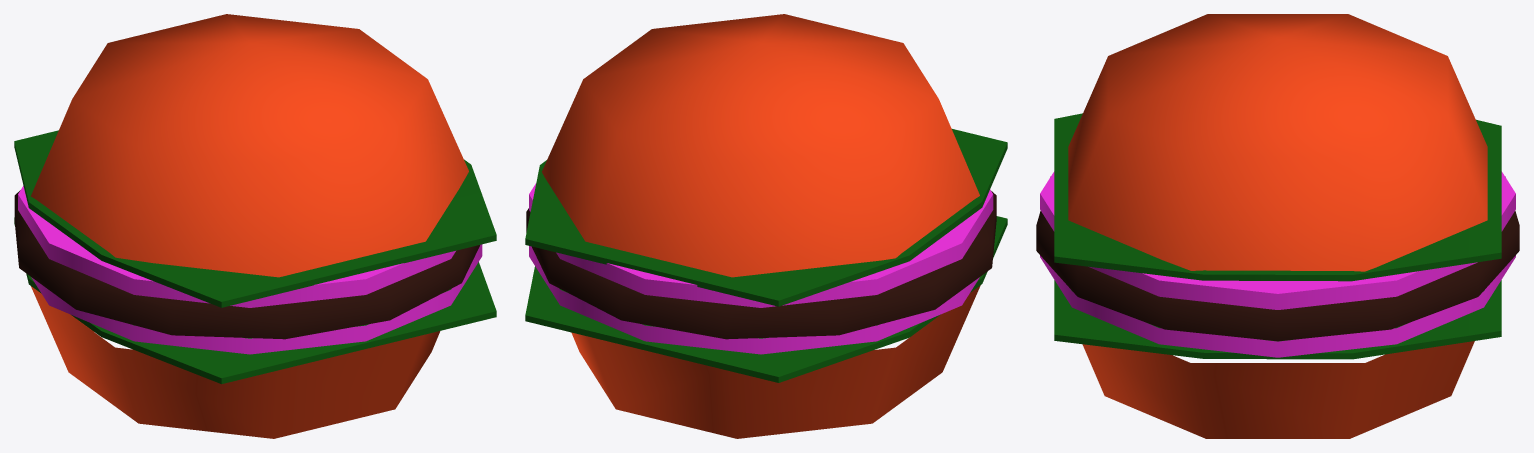
Rendered from hamburger.FBX.
3 renders of one model, left to right at view 1: azimuth 30°, elevation 25°; view 2: azimuth 150°, elevation 25°; view 3: azimuth 270°, elevation 25°, orthographic. The views are drawn at different scales.
Parts seen in each view (by area): view 1: Object349; view 2: Object349; view 3: Object349.
Part boxes in pixels (box(x1,y1,x2,y2)): Object349: box(14, 14, 496, 438); Object349: box(525, 14, 1007, 438); Object349: box(1036, 14, 1519, 438).
Bounding box in the file's own units: 1.94 × 1.46 × 1.96.
